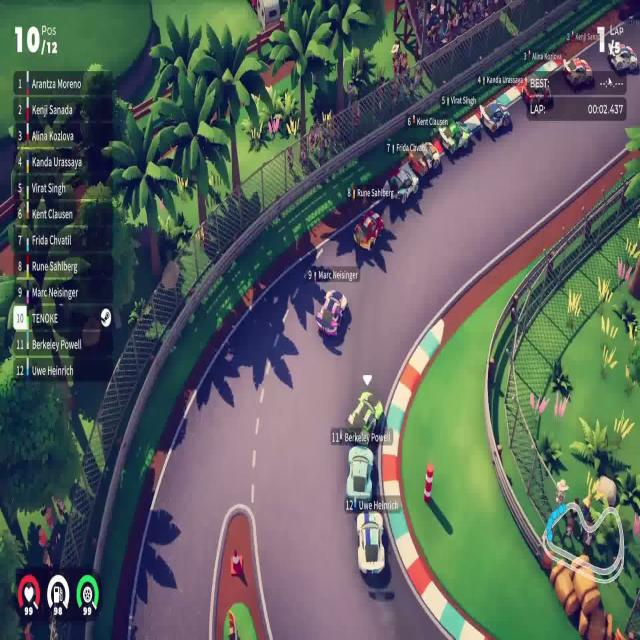car: (355, 510, 386, 577), (344, 444, 374, 512), (346, 390, 385, 440), (314, 288, 348, 338), (384, 159, 420, 205), (352, 208, 384, 252), (437, 119, 472, 157), (407, 140, 441, 178), (478, 100, 512, 136), (522, 74, 553, 110), (562, 56, 594, 88), (608, 44, 637, 74)
